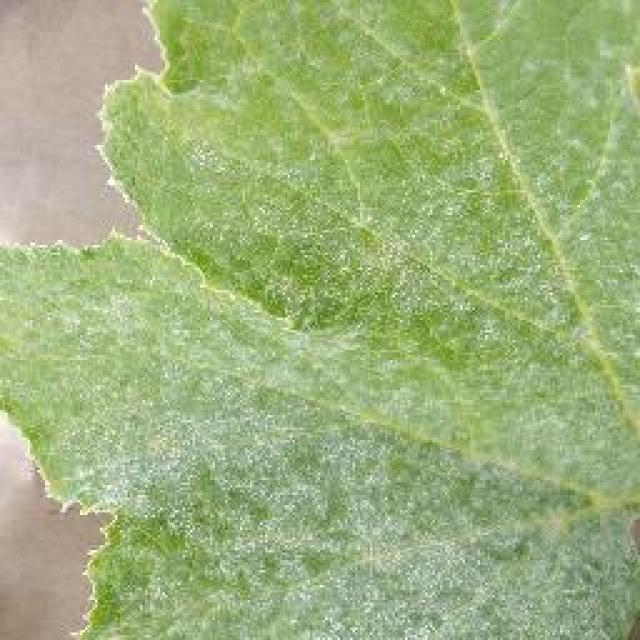Squ_Powdery_mildew: (90, 114, 541, 586)
